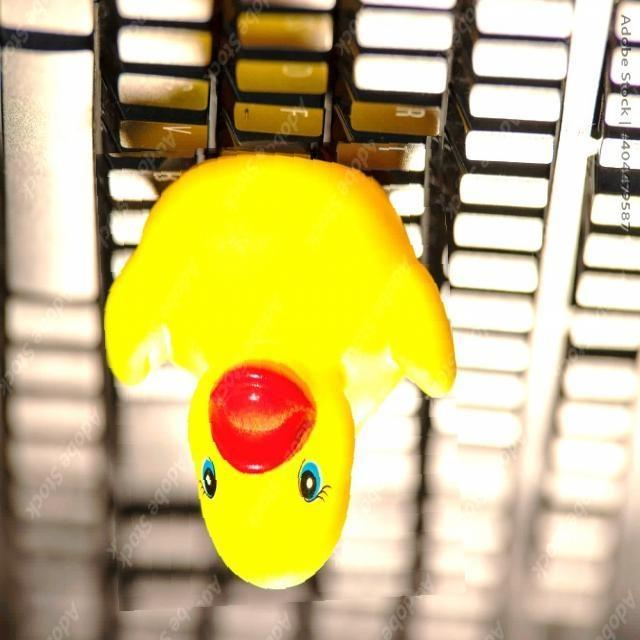rubber-duck: (104, 153, 454, 587)
